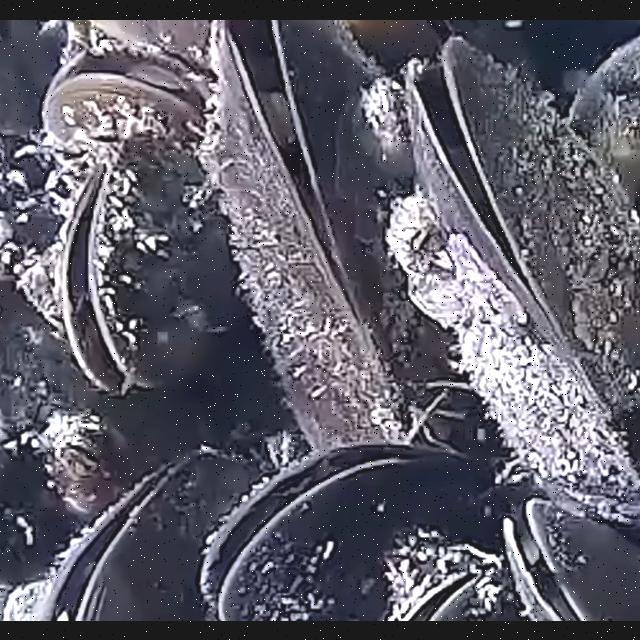Oyster-Open: (388, 37, 640, 526), (195, 19, 459, 455), (200, 438, 474, 620), (54, 129, 235, 399), (39, 448, 261, 620), (44, 36, 216, 184), (502, 498, 640, 620), (393, 558, 492, 620)
